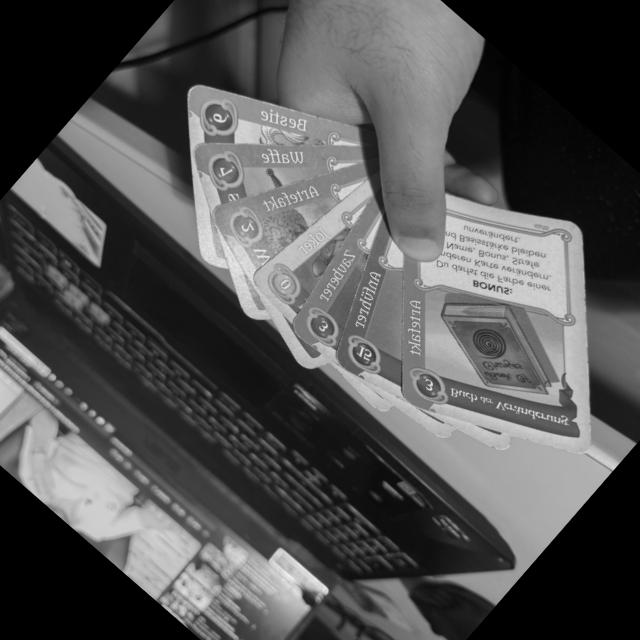Book Of Changes: (402, 192, 591, 459)
Doppelganger: (250, 171, 382, 323)
Empress: (335, 208, 407, 400)
Necromancer: (290, 182, 384, 364)
Sword of Keth: (190, 144, 379, 208)
Unicorn: (185, 85, 377, 146)
World Tree: (209, 159, 380, 280)
